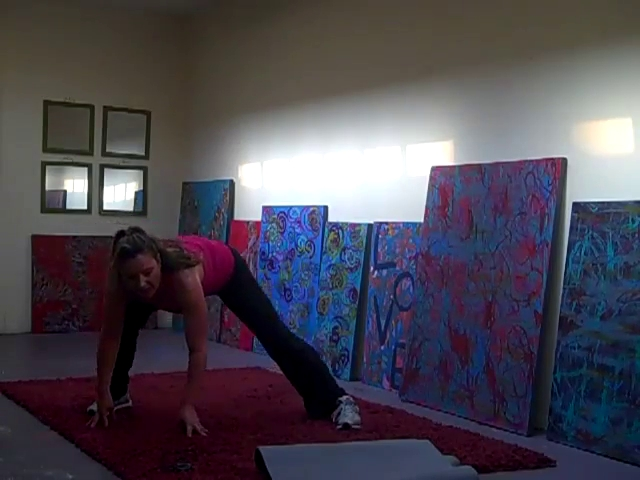person: (87, 226, 361, 437)
